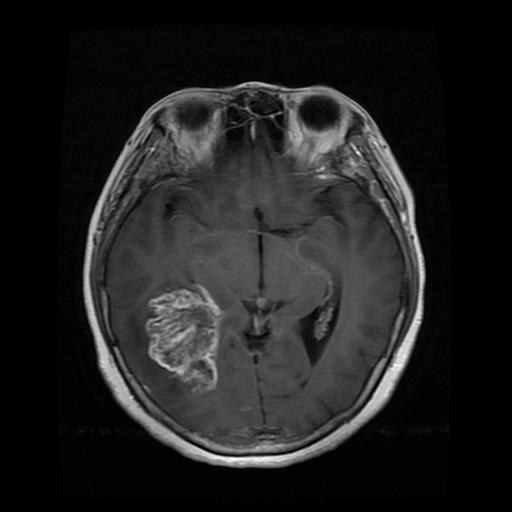Tumour-Glioma: (148, 289, 231, 394)
